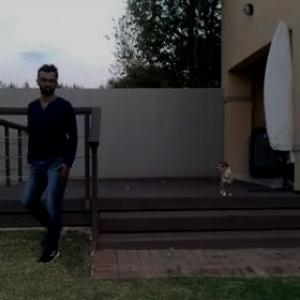follow: (26, 57, 92, 275)
